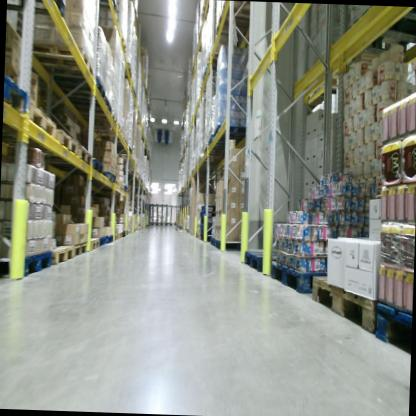pallet: (309, 266, 381, 346), (18, 36, 97, 82), (355, 7, 416, 63), (270, 258, 344, 298), (371, 299, 411, 358), (0, 247, 55, 284), (26, 100, 58, 144), (51, 72, 106, 97), (215, 12, 256, 42), (244, 247, 288, 274), (4, 72, 31, 115), (56, 97, 113, 117), (218, 1, 266, 22), (8, 0, 66, 16), (55, 127, 79, 157), (46, 243, 74, 265), (76, 145, 93, 170), (214, 238, 244, 252), (72, 241, 88, 259), (92, 156, 105, 176), (99, 0, 119, 12), (200, 204, 218, 214), (89, 237, 100, 253), (111, 173, 121, 188), (101, 172, 116, 181), (99, 234, 107, 249), (200, 218, 214, 225), (106, 233, 114, 245), (209, 235, 216, 247), (199, 212, 213, 218), (200, 224, 214, 230)
